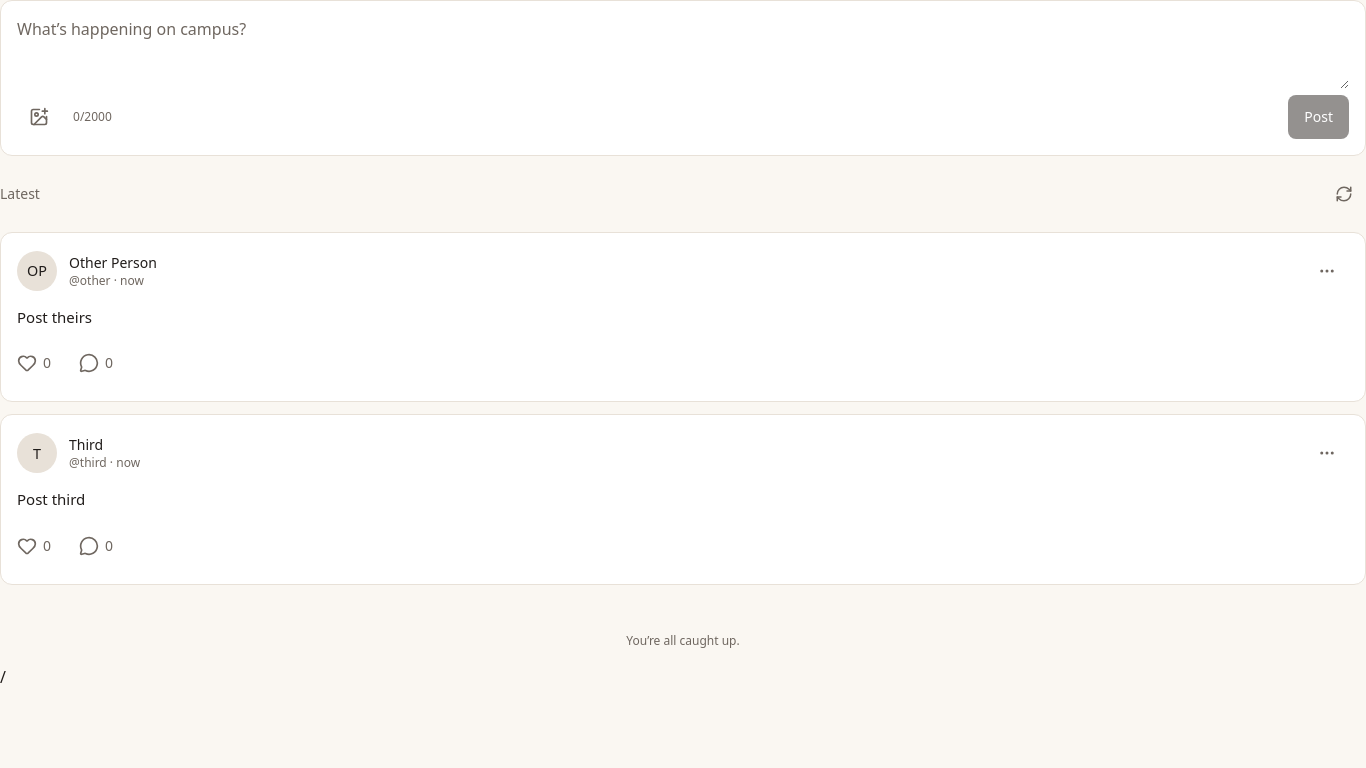
it: where the report and block menu appears › removes a blocked person's posts from the feed straight away
The width and height of the screenshot is (1366, 768).
Expected: the text "Post theirs" is shown, top-left (17, 307), bottom-right (92, 327)
Click the button named "More options" in the row of "Other Person".
click(1327, 271)  # box top-left (1305, 249), bottom-right (1349, 293)
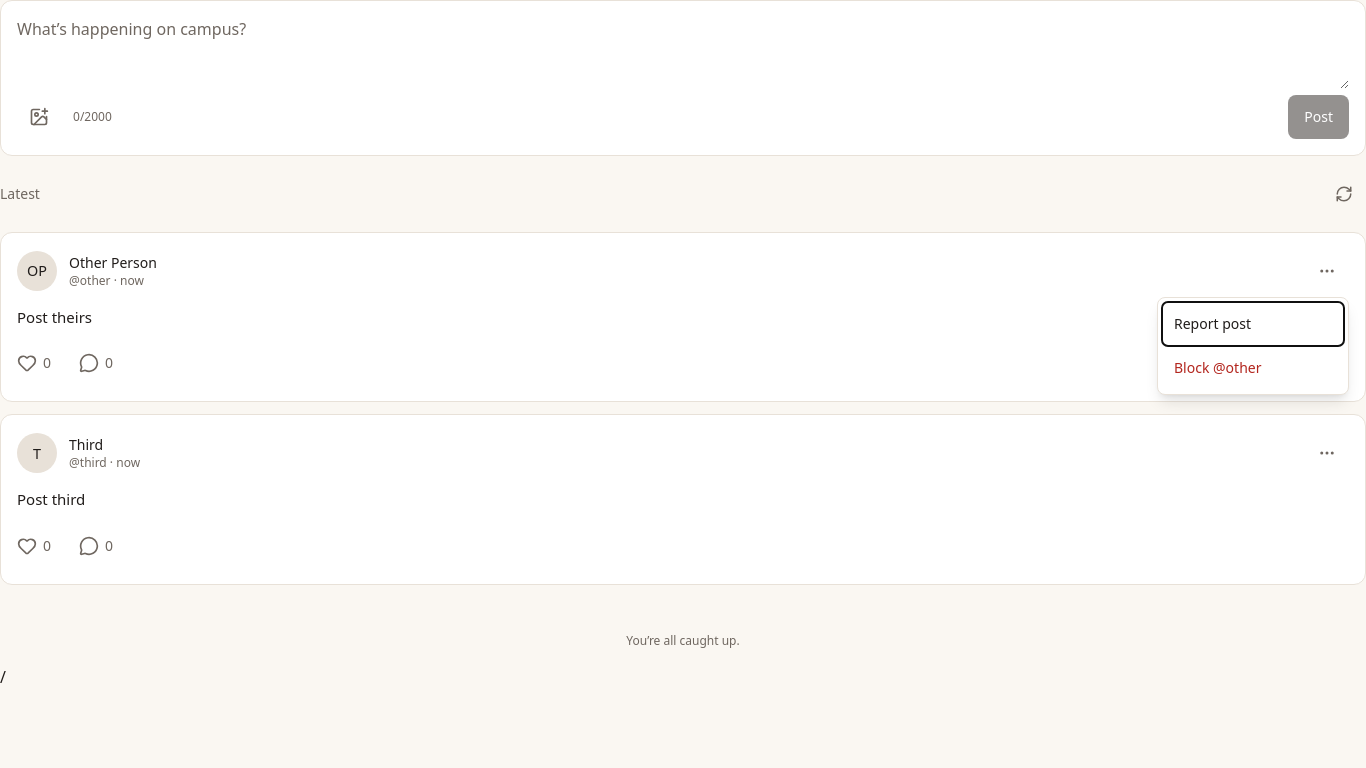
Click the menu item "Block @other".
click(1253, 368)  # box top-left (1162, 346), bottom-right (1344, 390)
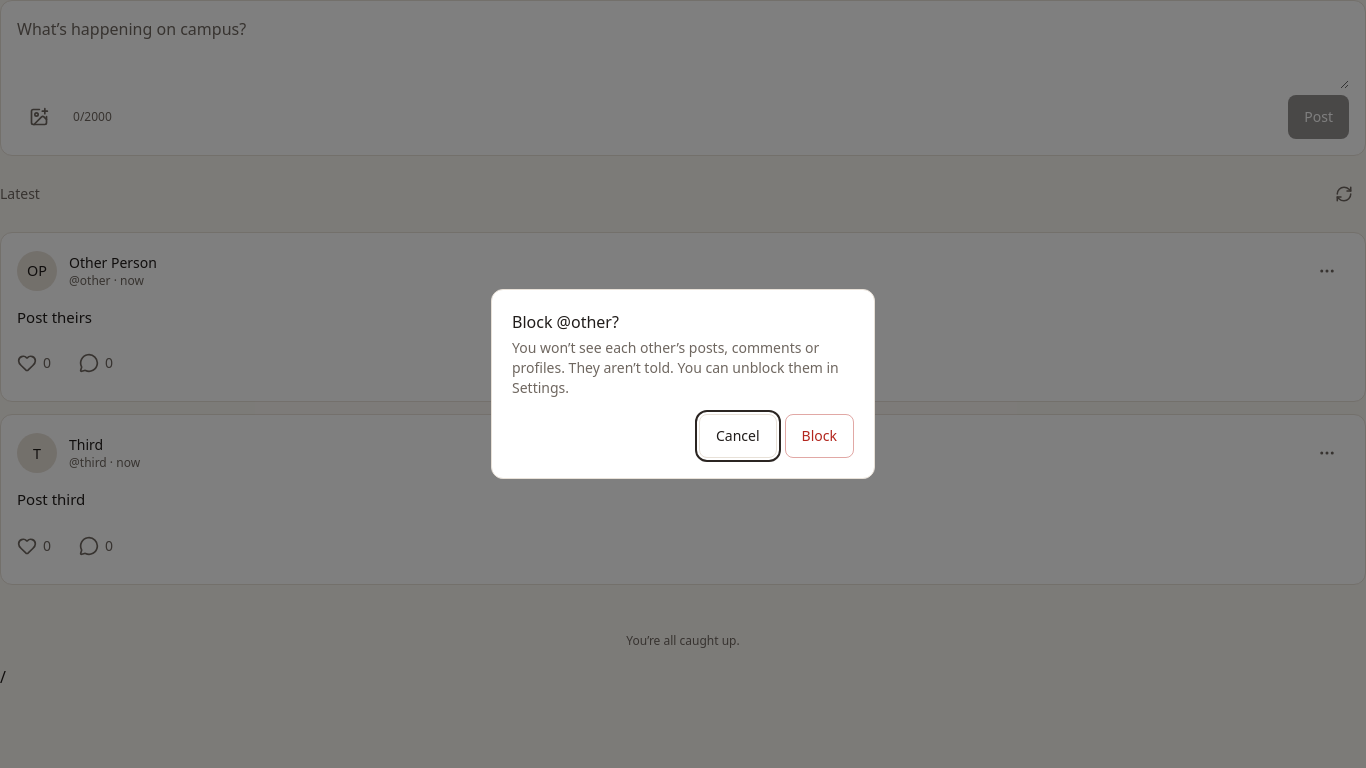
Click the button "Block".
click(819, 436)  # box top-left (785, 414), bottom-right (854, 458)
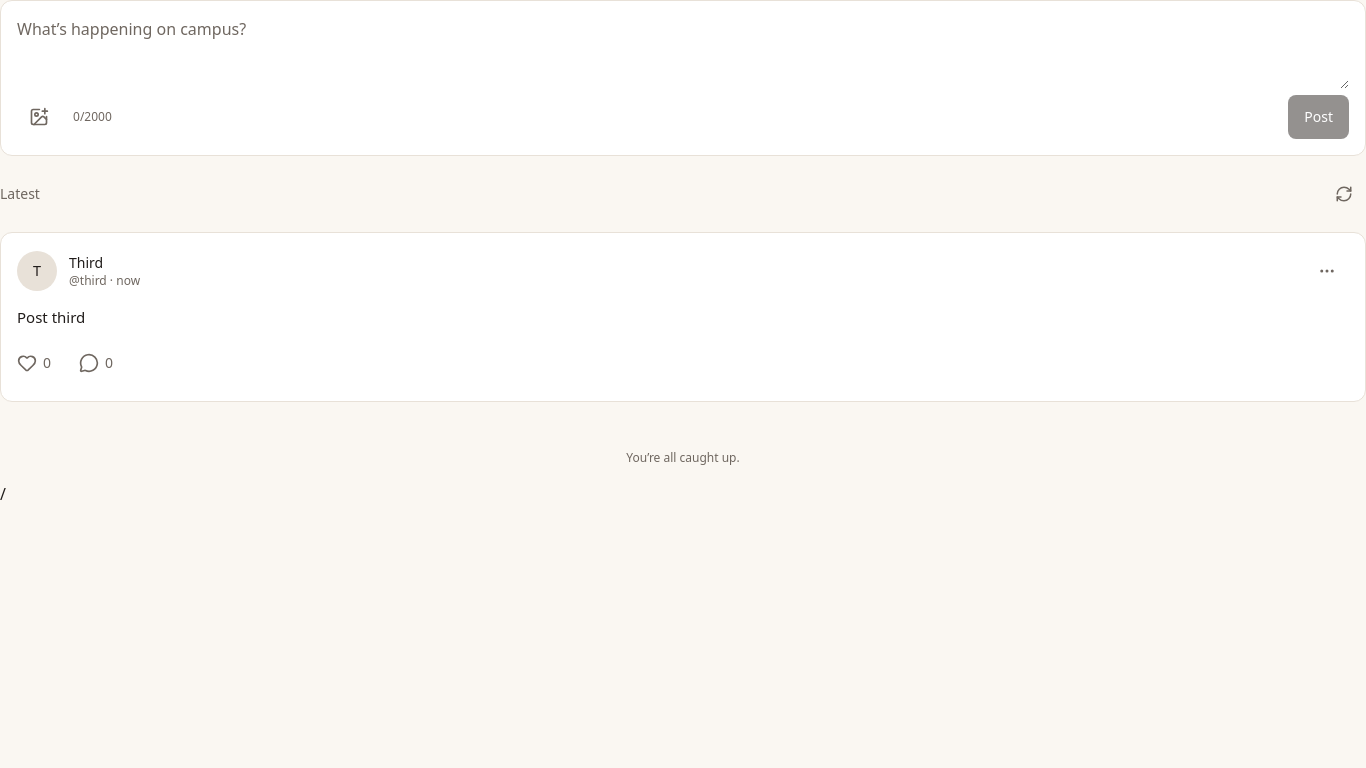
Expected: the text "Post third" is shown, top-left (17, 307), bottom-right (85, 327)
Expected: the link "Post theirs" is gone
